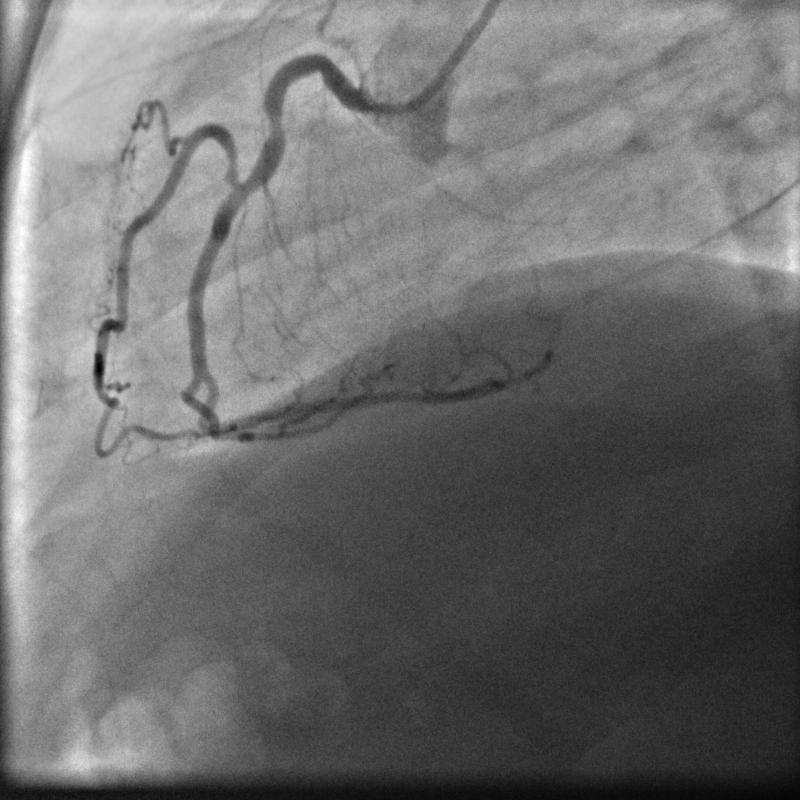Stenosis: (258, 107, 291, 139)
